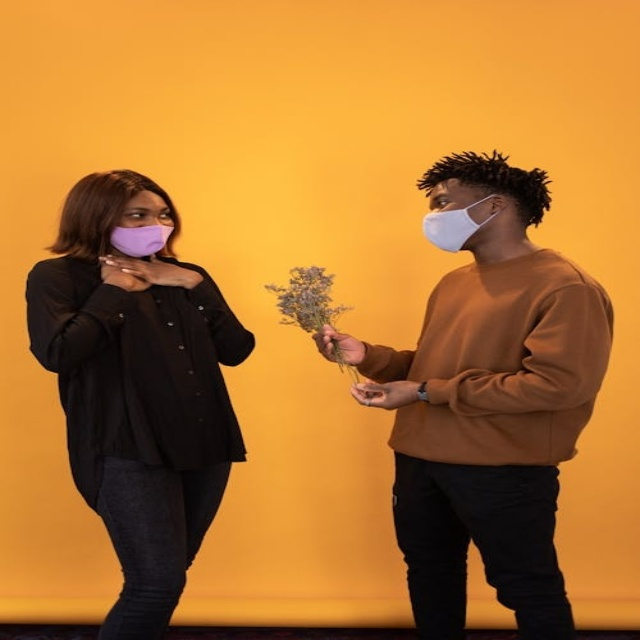Mascara: (422, 195, 502, 252), (108, 224, 173, 257)
Sin_gafas: (119, 204, 174, 220), (421, 189, 467, 207)
Sin_guantes: (96, 253, 201, 289), (314, 324, 367, 367), (349, 377, 411, 410)
